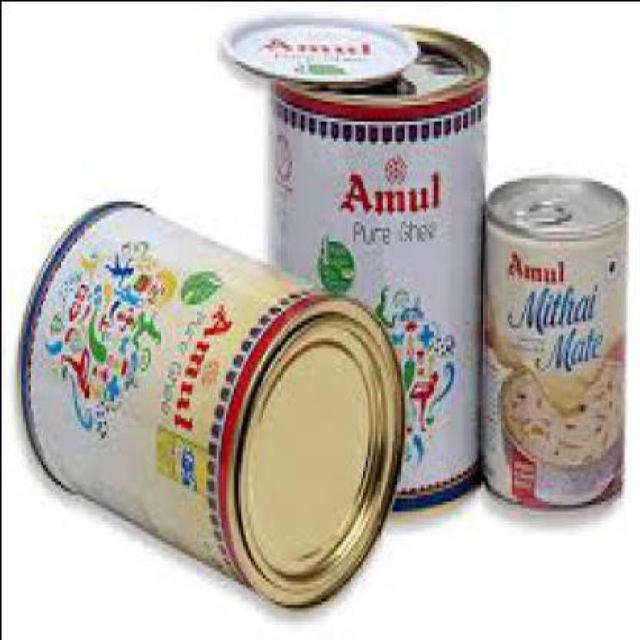METAL: (14, 197, 400, 603), (268, 20, 484, 506), (479, 173, 623, 507), (212, 13, 416, 81)
